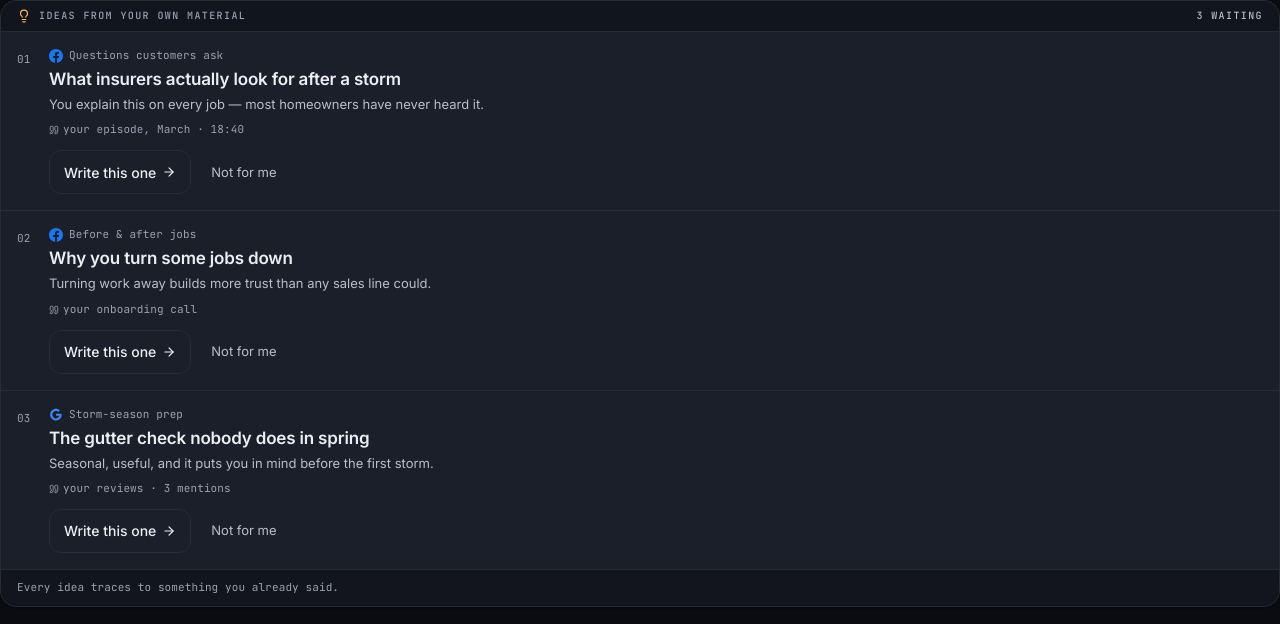
Test case: IdeaCard › writing an idea shows the work, then drafts it
What coordinates should you click on to do the following:
click the button "Write this one" below "your episode, March · 18:40"
I would click on:
 (120, 172)
Its box is [49,150,191,194].
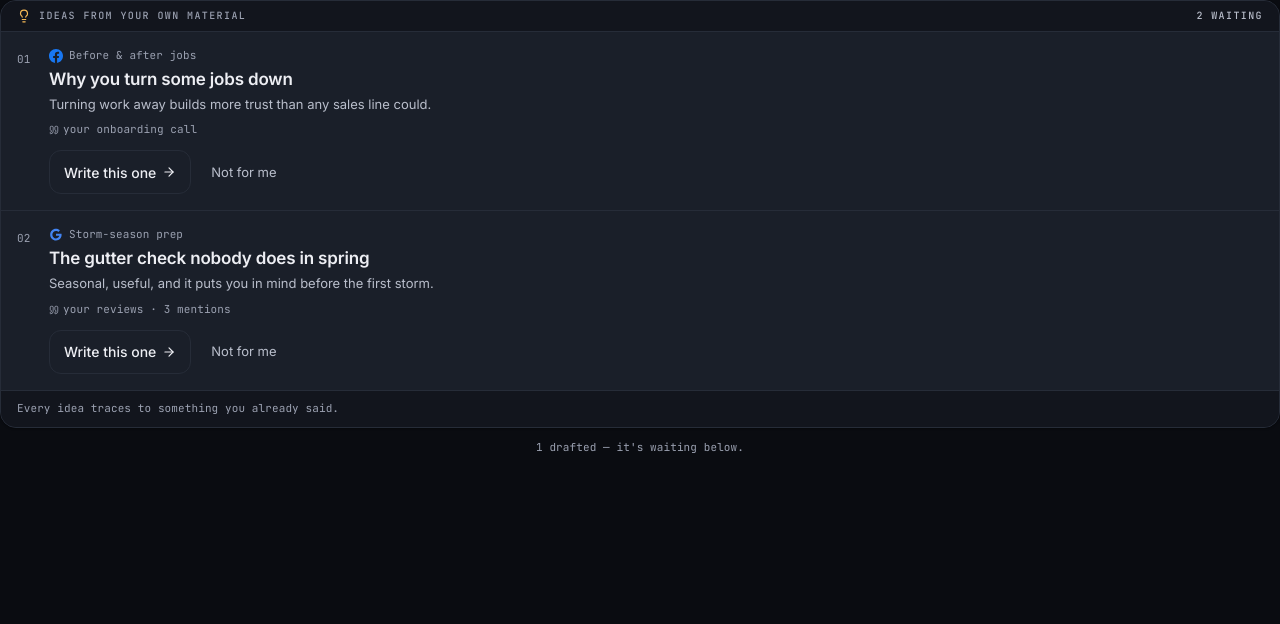
Expected: the text "1 drafted — it's waiting below." is shown, [536,440,744,454]
